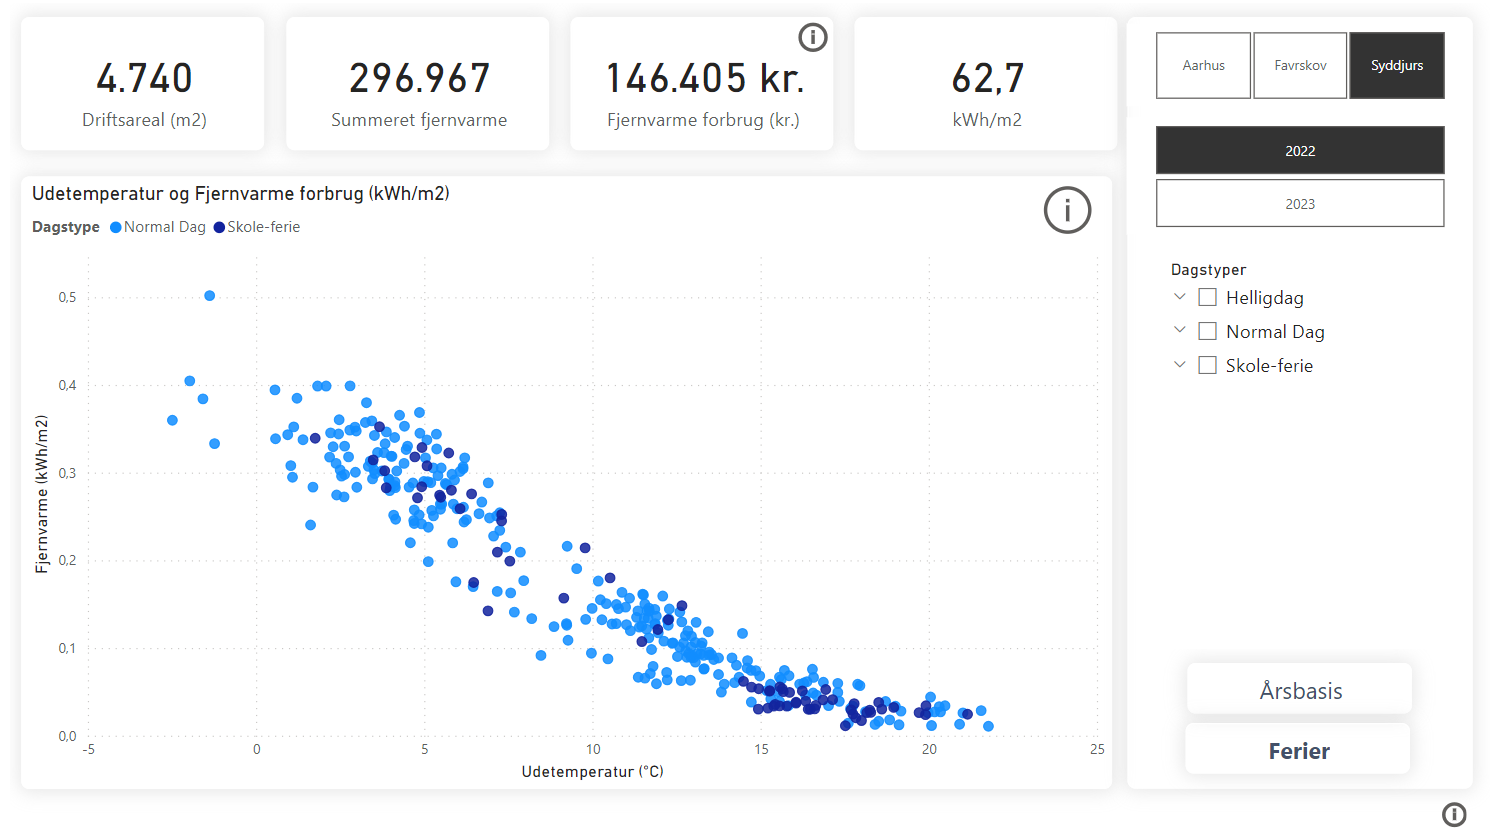

Layout of this report page (visuals, bound fields, positions):
{"tool":"powerbi","page":{"name":"Energiudnyttelse - Ferier","canvas":[1280,720],"ordinal":2},"visuals":[{"type":"scatterChart","title":"Udetemperatur og Fjernvarme forbrug (kWh/m2)","fields":{"X":["4_FEATURIZ_DMI.VALUE"],"Category":["4_FEATURIZ_DATOER.DATE"],"Series":["4_FEATURIZ_DATOER.TYPE"],"Y":["1 DAX.energy_per_sqm"]},"box":[10,150,944.3,530],"z":0},{"type":"card","fields":{"Values":["1 DAX.energy_per_sqm"]},"box":[731.2,12.2,226.7,115.6],"z":1000},{"type":"card","fields":{"Values":["1 DAX.Fjernvarme forbrug (kr.)"]},"box":[485.3,12.2,226.7,115.6],"z":2000},{"type":"card","fields":{"Values":["Sum(1_RAW_KOMMUNER_SKOLER.DRIFTSAREAL)"]},"box":[10,12.2,210,115.6],"z":3000},{"type":"card","fields":{"Values":["4_FEATURIZ_LOKALER.Summeret fjernvarme"]},"box":[239.3,12.2,226.7,115.6],"z":4000},{"type":"shape","box":[967,12,299,668],"z":5000},{"type":"shape","title":"År","box":[1018.9,571.1,194.4,43.3],"z":6000},{"type":"shape","title":"Ferie","box":[1017.8,623.3,194.4,43.3],"z":7000},{"type":"actionButton","box":[888.3,150,53.3,58.3],"z":8000},{"type":"slicer","fields":{"Values":["4_FEATURIZ_DATOER.TYPE (groups)","4_FEATURIZ_DATOER.NAVN"]},"box":[991.2,216.2,253.8,342.5],"z":9000},{"type":"slicer","fields":{"Values":["1_RAW_KOMMUNER_SKOLER.KOMMUNE"]},"box":[966.4,18.2,299.1,71.8],"z":10000},{"type":"slicer","fields":{"Values":["4_FEATURIZ_DATOER.YEAR"]},"box":[966.4,99.1,299.1,101.8],"z":11000},{"type":"actionButton","box":[677.3,11.8,34.5,35.5],"z":12000},{"type":"actionButton","box":[1235,687,30,31],"z":13000}]}

Visuals, with their boxes in screenshot pixels (x1, y1, x2, y2), scaled from the page's 1280x720 canvas onto the 1493x833 screenshot:
"Udetemperatur og Fjernvarme forbrug (kWh/m2)" scatterChart: x1=12 y1=174 x2=1113 y2=787
card - 1 DAX.energy_per_sqm: x1=853 y1=14 x2=1117 y2=148
card - 1 DAX.Fjernvarme forbrug (kr.): x1=566 y1=14 x2=830 y2=148
card - Sum(1_RAW_KOMMUNER_SKOLER.DRIFTSAREAL): x1=12 y1=14 x2=257 y2=148
card - 4_FEATURIZ_LOKALER.Summeret fjernvarme: x1=279 y1=14 x2=544 y2=148
shape: x1=1128 y1=14 x2=1477 y2=787
"År" shape: x1=1188 y1=661 x2=1415 y2=711
"Ferie" shape: x1=1187 y1=721 x2=1414 y2=771
actionButton: x1=1036 y1=174 x2=1098 y2=241
slicer - 4_FEATURIZ_DATOER.TYPE (groups) x 4_FEATURIZ_DATOER.NAVN: x1=1156 y1=250 x2=1452 y2=646
slicer - 1_RAW_KOMMUNER_SKOLER.KOMMUNE: x1=1127 y1=21 x2=1476 y2=104
slicer - 4_FEATURIZ_DATOER.YEAR: x1=1127 y1=115 x2=1476 y2=232
actionButton: x1=790 y1=14 x2=830 y2=55
actionButton: x1=1441 y1=795 x2=1476 y2=831
